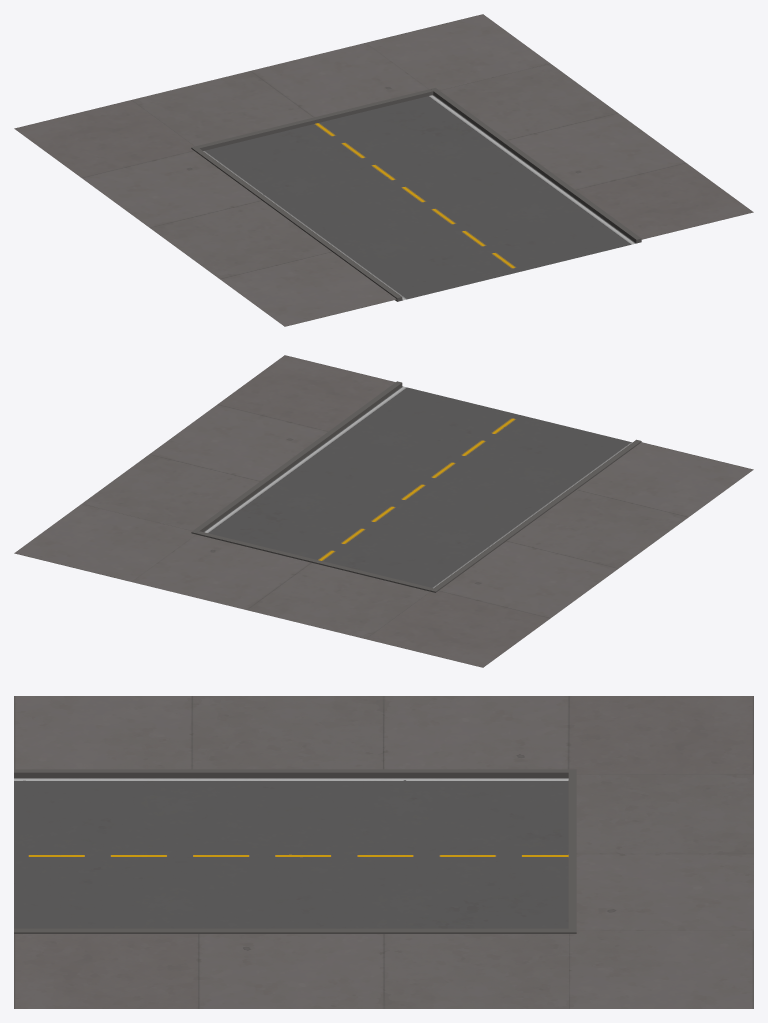
File: SM_Floor_Road_10.fbx
3 views of the same model, one above another, from view 1: azimuth 30°, elevation 25°; view 2: azimuth 150°, elevation 25°; view 3: azimuth 270°, elevation 25° (orthographic). The views are drawn at different scales.
Parts seen in each view (by area): view 1: SM_Floor_Road_10; view 2: SM_Floor_Road_10; view 3: SM_Floor_Road_10.
Part boxes in pixels (box(x1,y1,x2,y2)): SM_Floor_Road_10: box(14, 14, 753, 326); SM_Floor_Road_10: box(14, 355, 753, 667); SM_Floor_Road_10: box(14, 696, 753, 1008).
Bounding box in the file's own units: 10 × 0.075 × 10.
